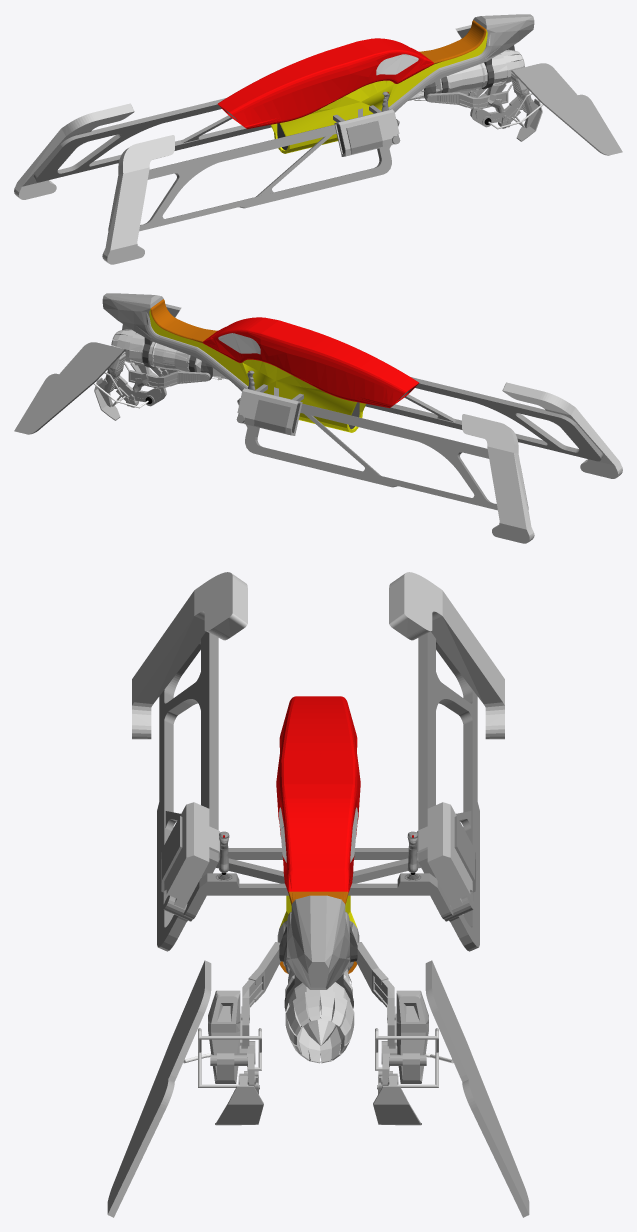
3 views of the same model, one above another, from view 1: azimuth 30°, elevation 25°; view 2: azimuth 150°, elevation 25°; view 3: azimuth 270°, elevation 25° (orthographic). The views are drawn at different scales.
Visible parts, largest first — view 1: L1, L2, gl1; view 2: L2, L1, gl1; view 3: L2, L1, gl1.
Boxes of the visible parts, x1,y1,x2,y2 form: L1: [102, 15, 622, 264]; L2: [14, 14, 531, 199]; gl1: [408, 49, 524, 100]; L2: [14, 294, 534, 543]; L1: [105, 293, 622, 478]; gl1: [111, 329, 228, 380]; L2: [318, 572, 529, 1217]; L1: [107, 572, 318, 1217]; gl1: [283, 942, 354, 1063].
Size of the model in its own units: 5.44 by 1.21 by 1.95.
